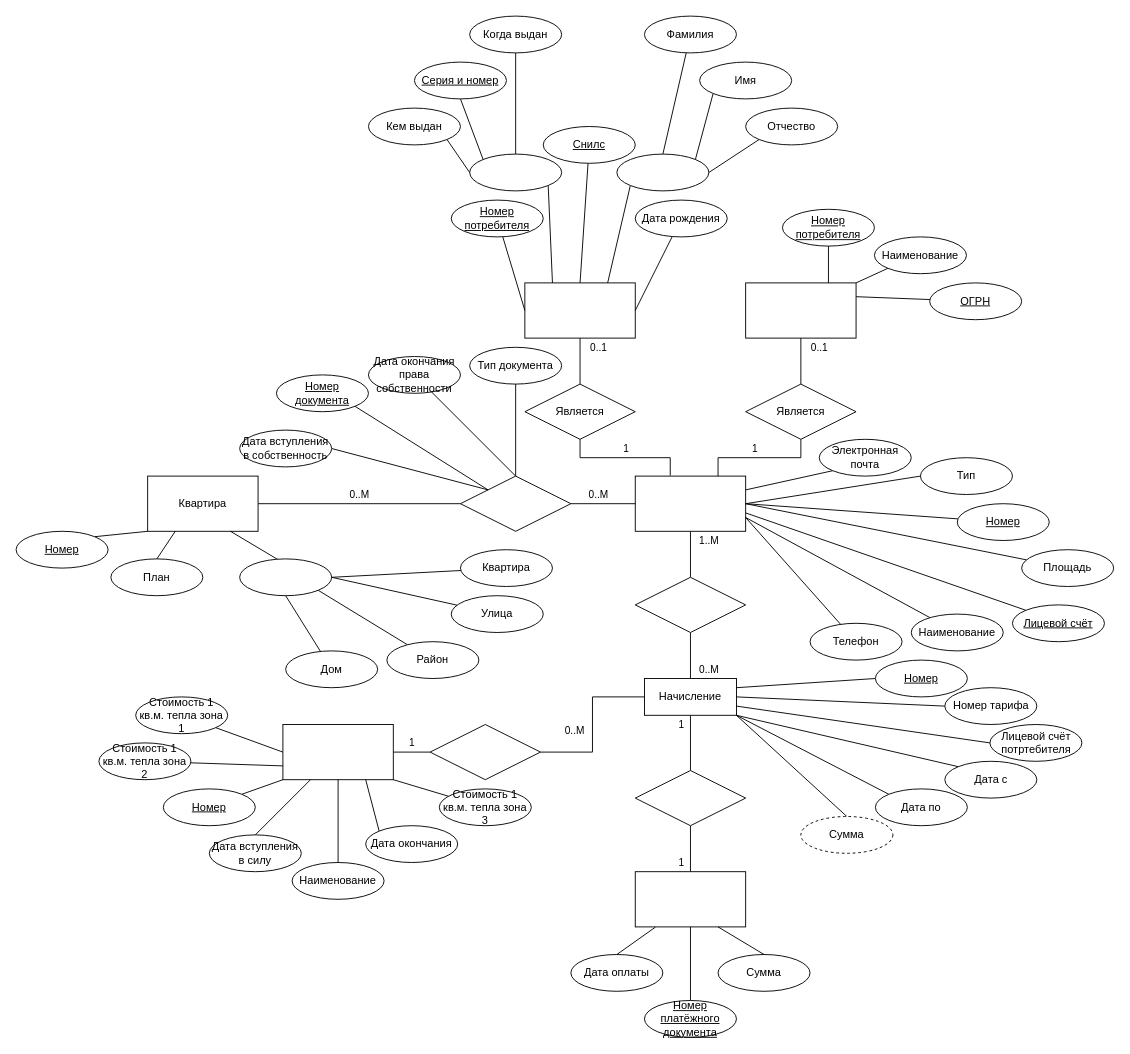
This 1130x1054 diagram has some shape labels left out. The shapes that lost their labels are listed below. From the top down, each one's centre as x and y in pixels, then its label:
At (515,172): "Паспортные данные".
At (662,172): "ФИО".
At (579,310): "Физическое лицо".
At (800,310): "Юридическое лицо".
At (515,503): "Владеет".
At (690,503): "Потребитель".
At (285,577): "Адрес".
At (690,604): "Просиходит".
At (337,752): "Тариф".
At (484,752): "Устанавливается".
At (690,798): "Производится".
At (690,899): "Оплата".
